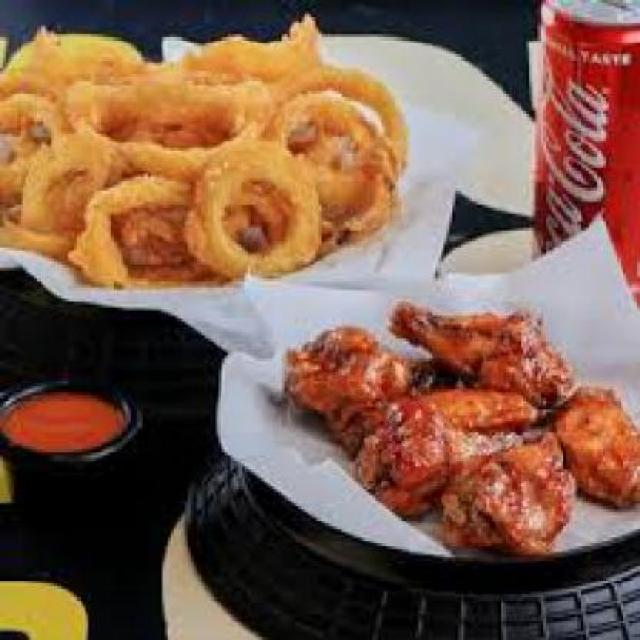chicken wings: (265, 299, 637, 563)
